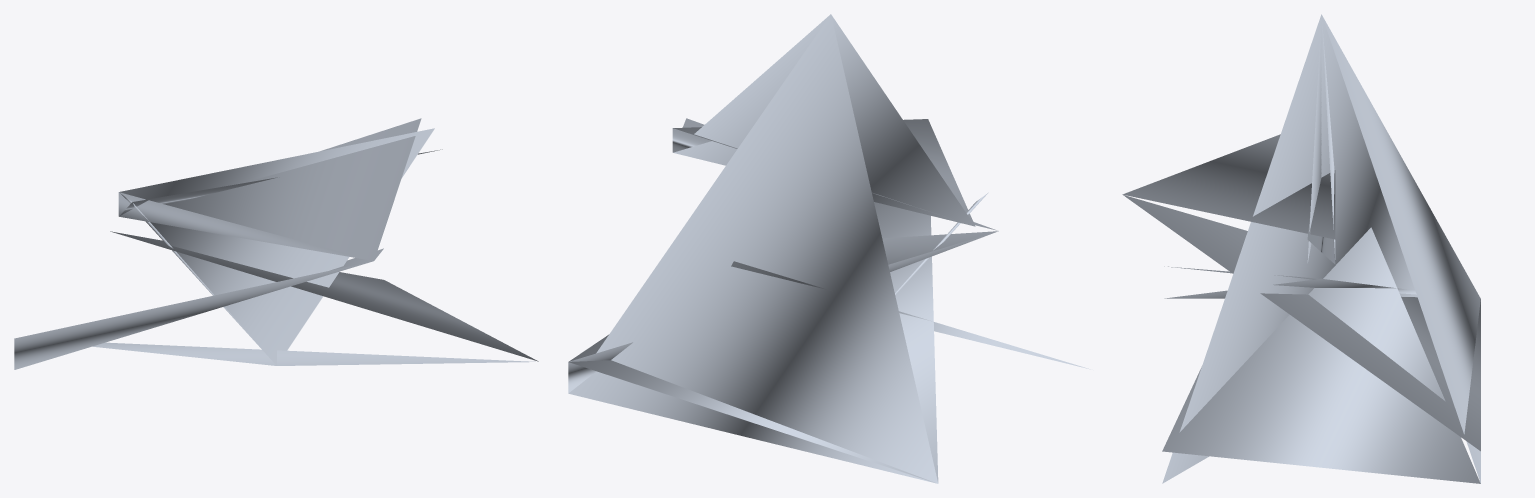
Rendered from moment_of_inertia_i_beam.glb.
3 renders of one model, left to right at view 1: azimuth 30°, elevation 25°; view 2: azimuth 150°, elevation 25°; view 3: azimuth 270°, elevation 25°, orthographic. The views are drawn at different scales.
Visible parts, largest first — view 1: tool; view 2: tool; view 3: tool.
Part boxes in pixels (<box>): tool: <box>14,118,538,369</box>; tool: <box>568,14,1090,483</box>; tool: <box>1122,14,1480,483</box>.
Bounding box in the file's own units: 2.2 × 2.09 × 2.
